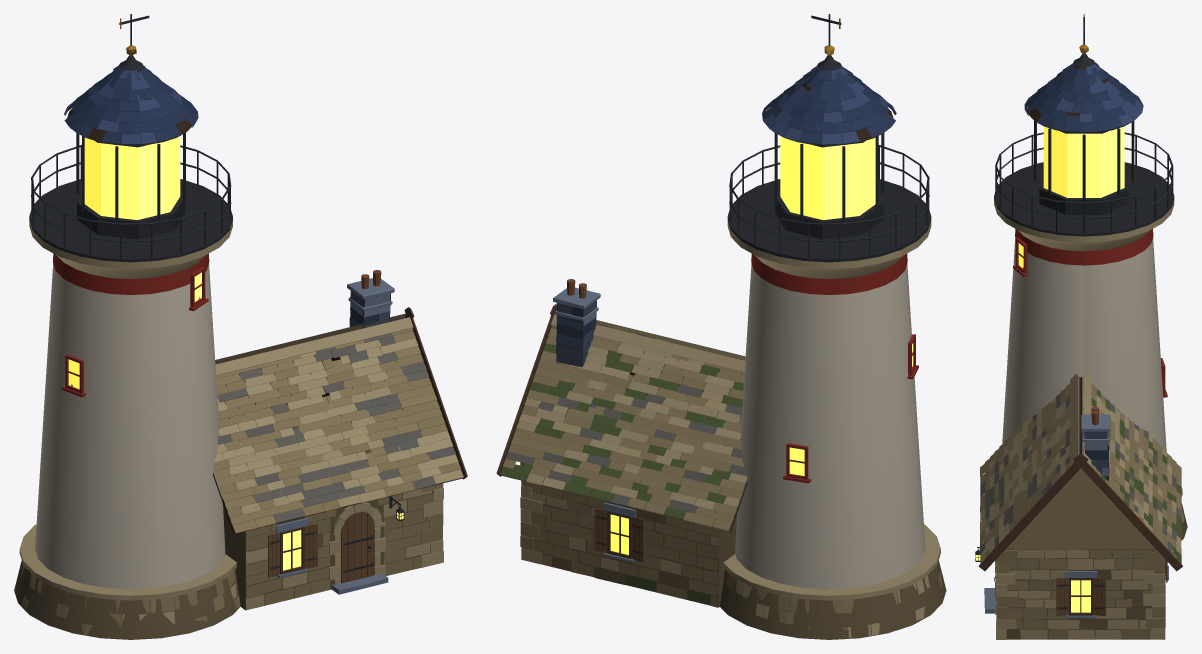
File: lighthouse.glb
The picture shows the model from 3 angles, left to right: view 1: azimuth 30°, elevation 25°; view 2: azimuth 150°, elevation 25°; view 3: azimuth 270°, elevation 25°; orthographic projection. The views are drawn at different scales.
Visible parts, largest first — view 1: isl_lighthouse; view 2: isl_lighthouse; view 3: isl_lighthouse.
Part boxes in pixels (x1,y1,x2,y2): isl_lighthouse: [14, 14, 467, 639]; isl_lighthouse: [496, 14, 946, 639]; isl_lighthouse: [975, 14, 1187, 639].
Size of the model in its own units: 11.58 by 16.84 by 6.36.
